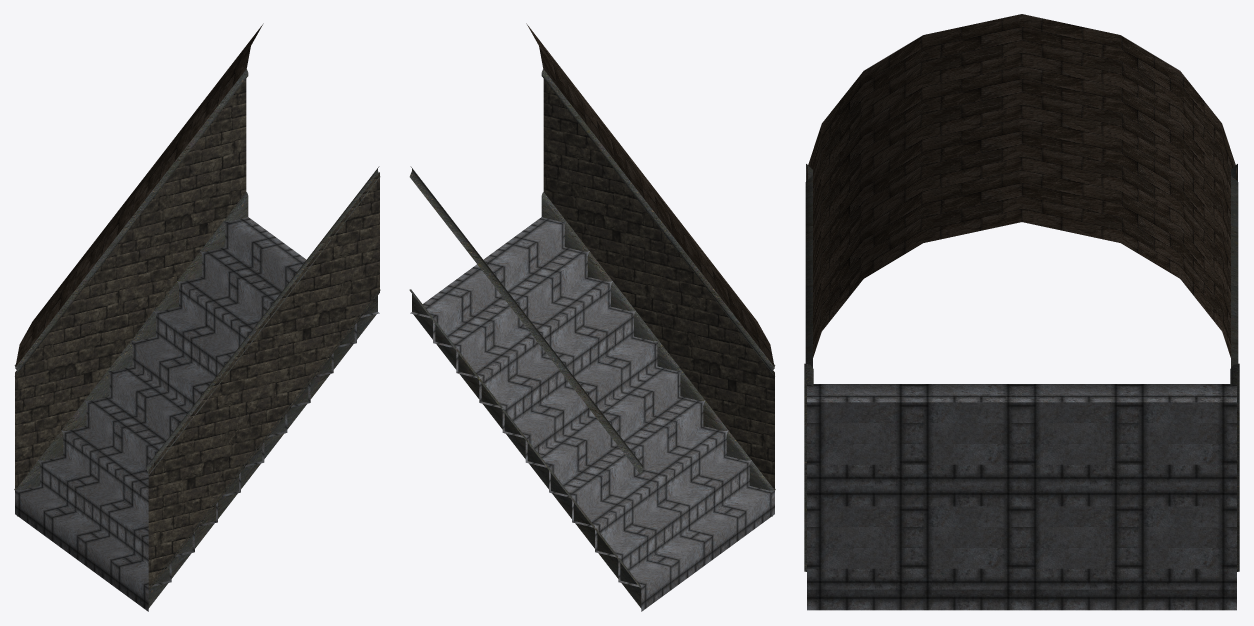
File: Stairs.fbx
3 renders of one model, left to right at view 1: azimuth 30°, elevation 25°; view 2: azimuth 150°, elevation 25°; view 3: azimuth 270°, elevation 25°, orthographic. The views are drawn at different scales.
Parts seen in each view (by area): view 1: Plane, Plane_009, Plane_002, Plane_008, Plane_010, Plane_001, Plane_000, Plane_011; view 2: Plane, Plane_009, Plane_008, Plane_001, Plane_010, Plane_000, Plane_011; view 3: Plane, Plane_008, Plane_000, Plane_011, Plane_001, Plane_010.
Boxes of the visible parts, x1=… form: Plane: x1=15, y1=217, x2=379, y2=611; Plane_009: x1=148, y1=172, x2=379, y2=590; Plane_002: x1=15, y1=79, x2=246, y2=489; Plane_008: x1=15, y1=23, x2=263, y2=368; Plane_010: x1=148, y1=289, x2=380, y2=608; Plane_001: x1=14, y1=192, x2=248, y2=516; Plane_000: x1=14, y1=69, x2=248, y2=374; Plane_011: x1=146, y1=166, x2=380, y2=474; Plane: x1=410, y1=217, x2=774, y2=611; Plane_009: x1=543, y1=79, x2=774, y2=489; Plane_008: x1=526, y1=23, x2=774, y2=368; Plane_001: x1=409, y1=289, x2=641, y2=608; Plane_010: x1=541, y1=192, x2=775, y2=516; Plane_000: x1=409, y1=166, x2=643, y2=474; Plane_011: x1=541, y1=69, x2=775, y2=374; Plane: x1=807, y1=384, x2=1236, y2=610; Plane_008: x1=807, y1=14, x2=1236, y2=357; Plane_000: x1=1231, y1=164, x2=1238, y2=367; Plane_011: x1=805, y1=164, x2=812, y2=367; Plane_001: x1=1230, y1=363, x2=1239, y2=571; Plane_010: x1=804, y1=363, x2=813, y2=571.
Size of the model in its own units: 4 by 8 by 4.05.
